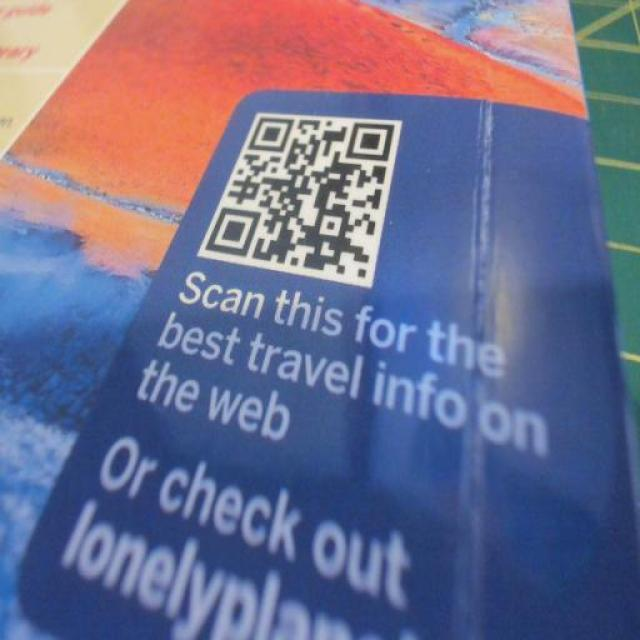QR_CODE: (198, 96, 406, 292)
